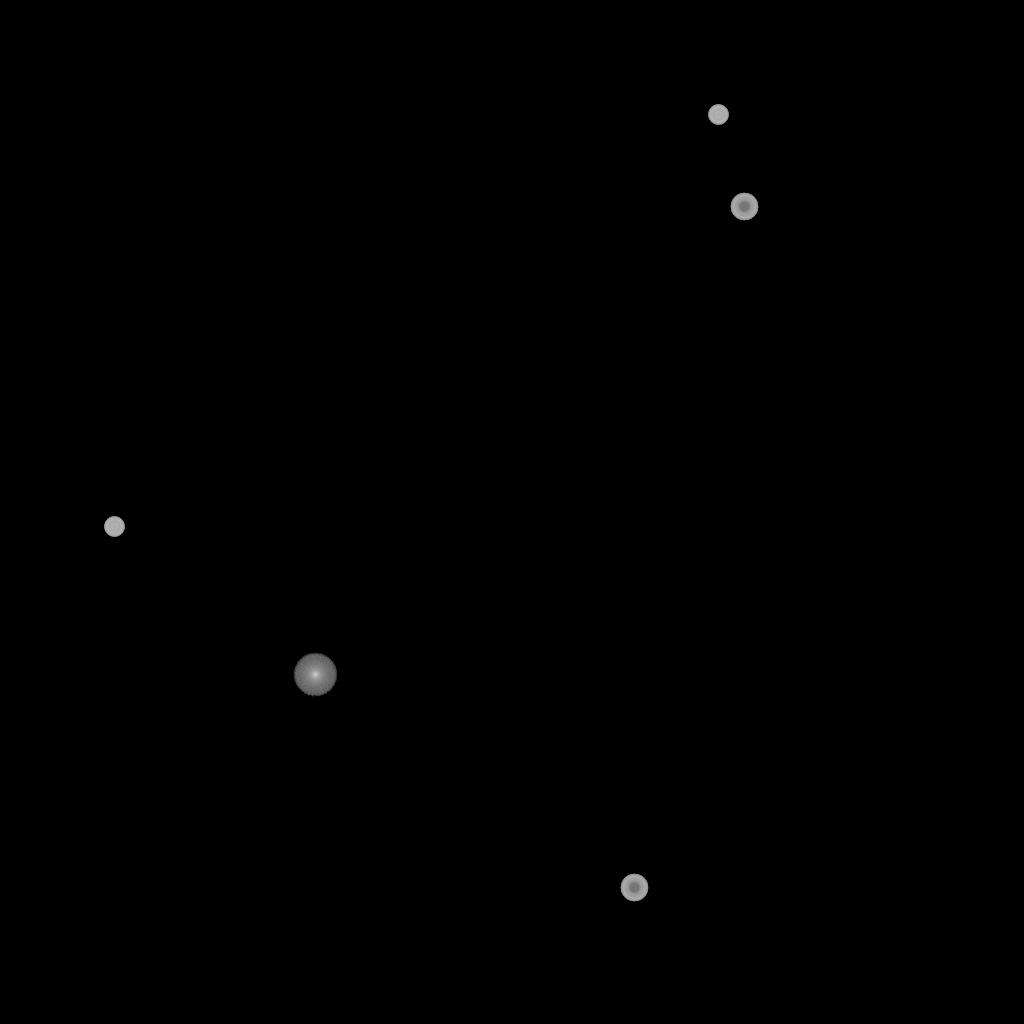depth:-40: (708, 105, 728, 125), (104, 517, 124, 537)
depth:-50: (620, 874, 648, 902), (730, 193, 758, 221)
depth:10: (293, 653, 337, 697)
